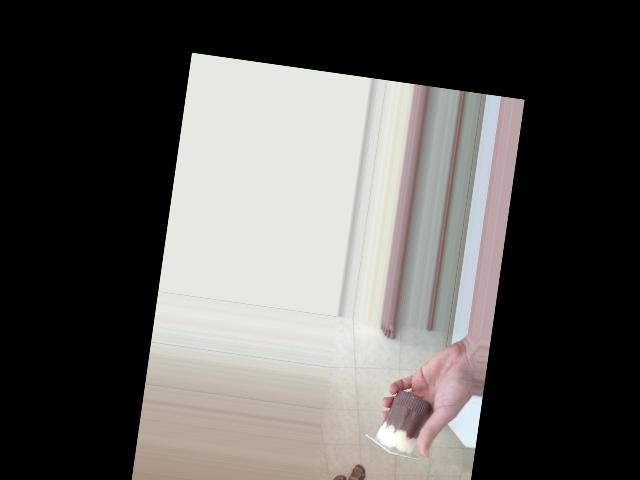milky: (367, 379, 436, 462)
